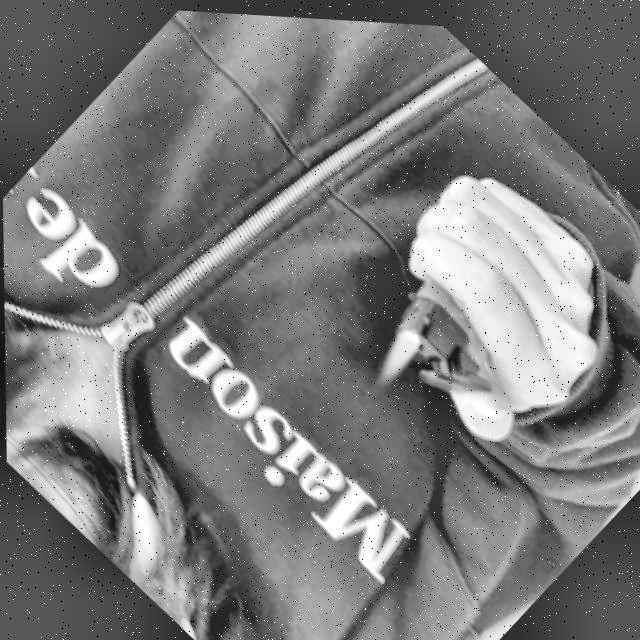Fire: (365, 312, 428, 380)
